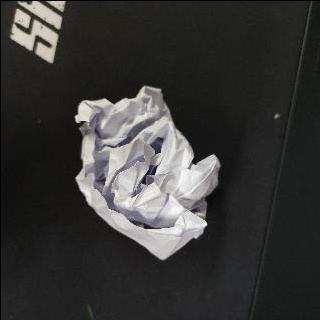8/可回收垃圾/纸: (73, 84, 220, 261)
